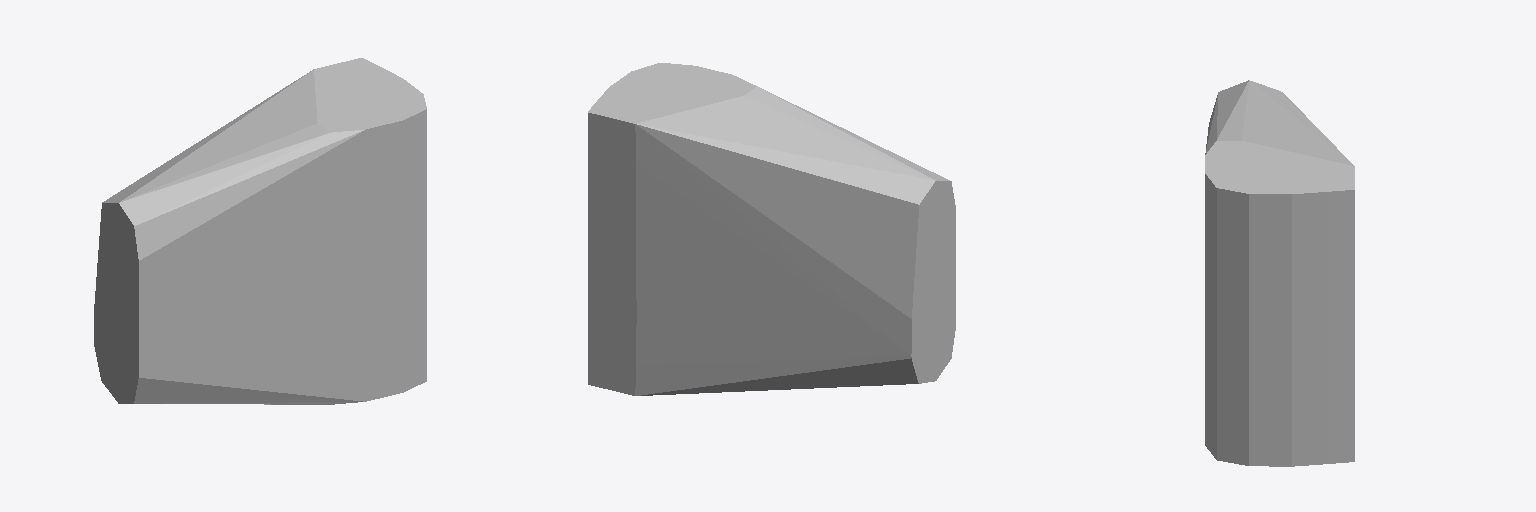
The model's file is work_bench_collision_30.obj.
3 views of the same model, side by side, from view 1: azimuth 30°, elevation 25°; view 2: azimuth 150°, elevation 25°; view 3: azimuth 270°, elevation 25° (orthographic).
Bounding box in the file's own units: 0.1517 × 0.1293 × 0.0643.